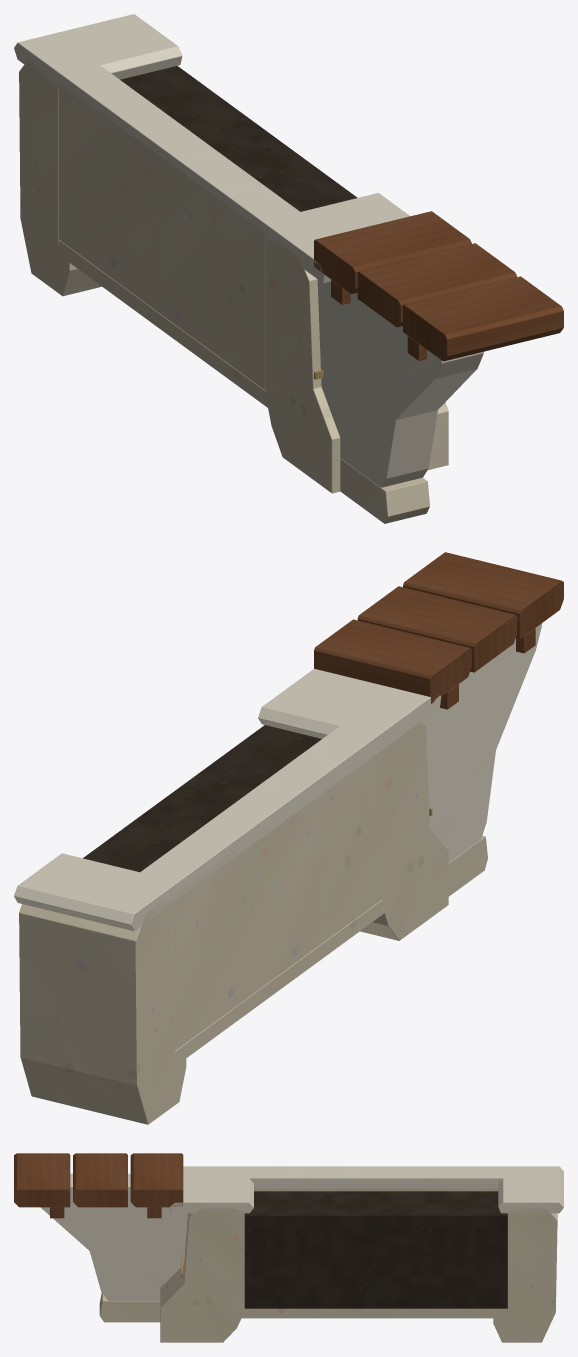
The model's file is AST-BOT-006_START.glb.
3 renders of one model, top to bottom at view 1: azimuth 30°, elevation 25°; view 2: azimuth 150°, elevation 25°; view 3: azimuth 270°, elevation 25°, orthographic. The views are drawn at different scales.
Visible parts, largest first — view 1: ASTRAEA_planted_seat_warm_stone, ASTRAEA_planted_seat_ivory_enamel, ASTRAEA_planted_seat_warm_walnut, ASTRAEA_planted_seat_botanical_soil; view 2: ASTRAEA_planted_seat_warm_stone, ASTRAEA_planted_seat_ivory_enamel, ASTRAEA_planted_seat_warm_walnut, ASTRAEA_planted_seat_botanical_soil; view 3: ASTRAEA_planted_seat_botanical_soil, ASTRAEA_planted_seat_warm_stone, ASTRAEA_planted_seat_ivory_enamel, ASTRAEA_planted_seat_warm_walnut.
Part boxes in pixels (<box>): ASTRAEA_planted_seat_warm_stone: <box>19,59,448,523</box>; ASTRAEA_planted_seat_ivory_enamel: <box>14,14,483,487</box>; ASTRAEA_planted_seat_warm_walnut: <box>314,211,563,361</box>; ASTRAEA_planted_seat_botanical_soil: <box>120,66,357,211</box>; ASTRAEA_planted_seat_warm_stone: <box>19,721,487,1124</box>; ASTRAEA_planted_seat_ivory_enamel: <box>14,623,541,931</box>; ASTRAEA_planted_seat_warm_walnut: <box>314,552,563,709</box>; ASTRAEA_planted_seat_botanical_soil: <box>83,725,321,872</box>; ASTRAEA_planted_seat_botanical_soil: <box>244,1191,507,1308</box>; ASTRAEA_planted_seat_warm_stone: <box>99,1184,557,1342</box>; ASTRAEA_planted_seat_ivory_enamel: <box>41,1166,563,1300</box>; ASTRAEA_planted_seat_warm_walnut: <box>14,1153,183,1218</box>.
Bounding box in the file's own units: 0.238 × 0.47 × 1.53.
5 materials, 5 textured.
